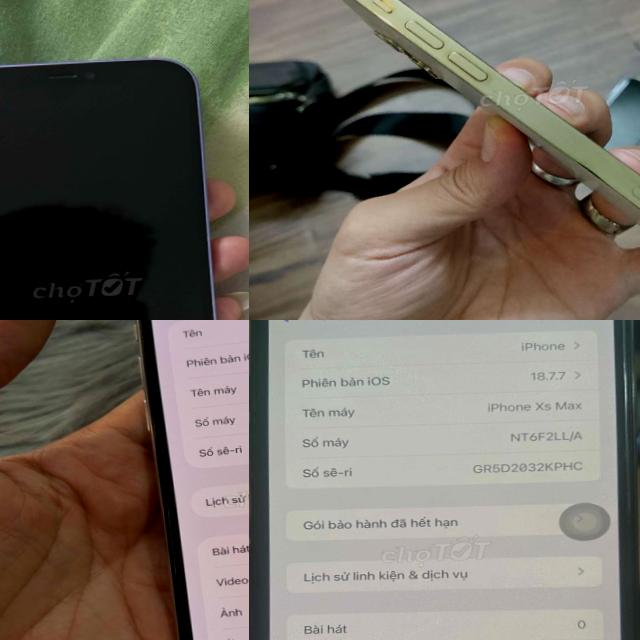gen_11: (125, 320, 249, 640)
gen_12_13: (306, 0, 640, 317), (0, 46, 233, 320)
gen_x_xs: (249, 320, 637, 640)
